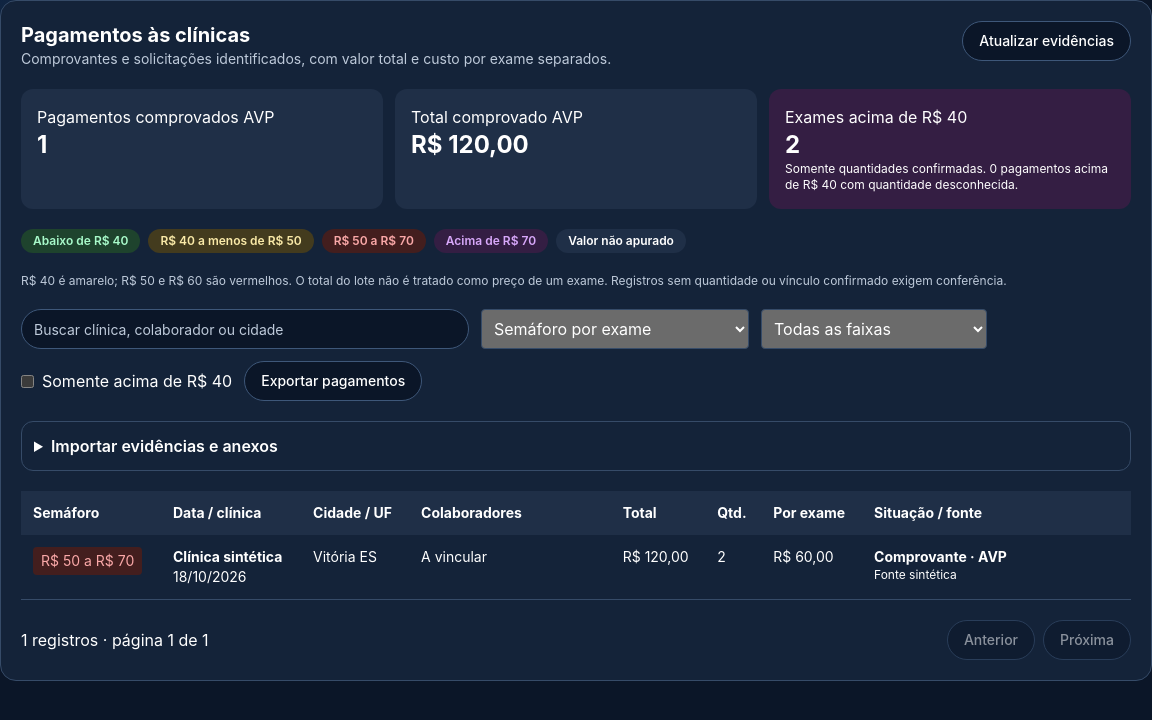
Scenario: AVP evidence import and session boundaries › clears private records when access is revoked
The width and height of the screenshot is (1152, 720).
Click the button "Atualizar evidências" at (1047, 41), box x1=962 y1=21 x2=1131 y2=61
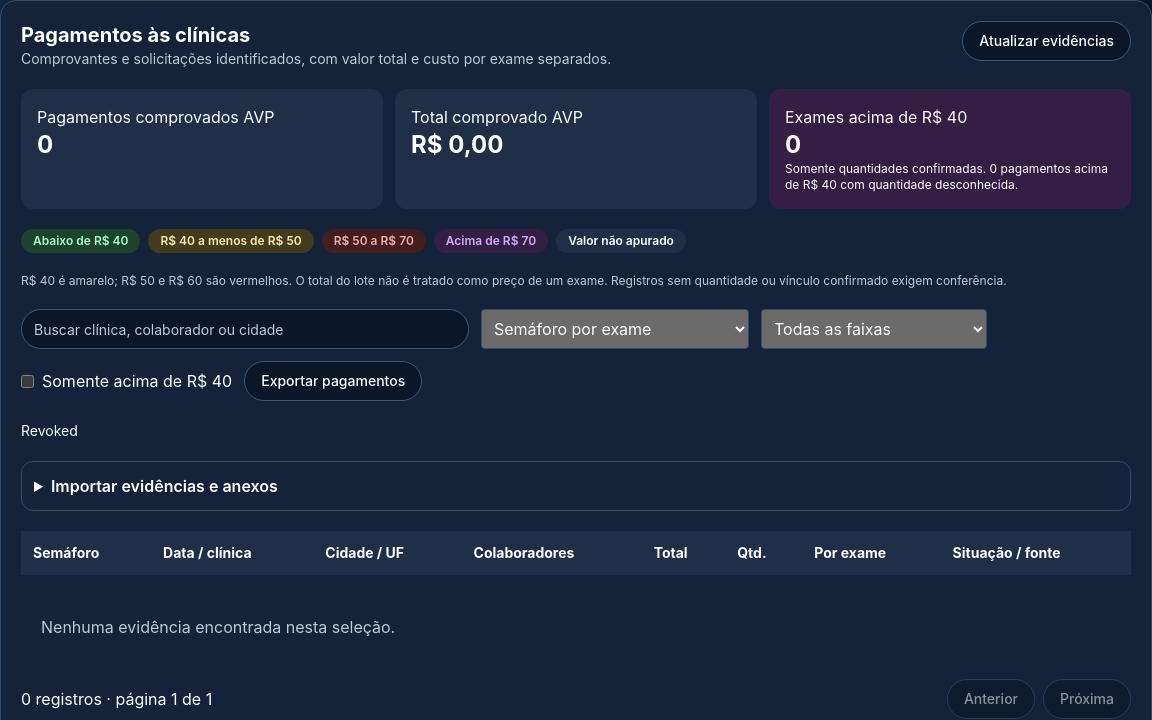
Expected: the text "Clínica sintética" is gone
Expected: the text "Revoked" is shown, x1=21 y1=422 x2=78 y2=439
